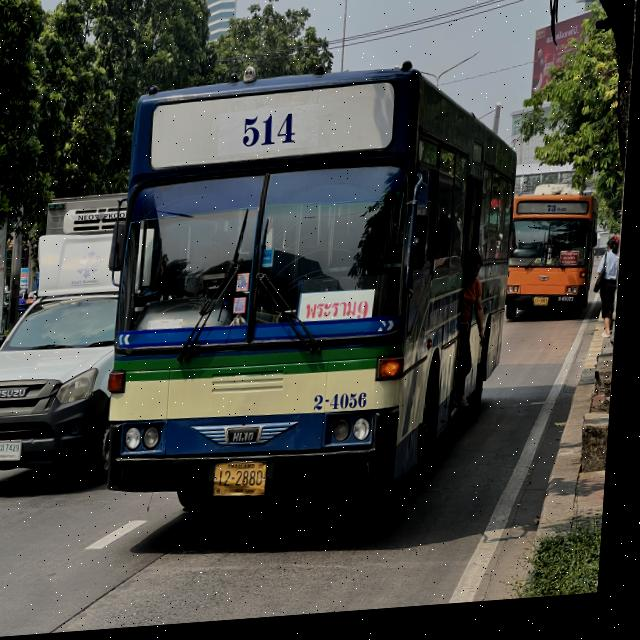BMTA-bus: (97, 48, 530, 534), (509, 186, 605, 334)
Bus Line Number: (218, 110, 323, 159), (549, 211, 571, 224)
Bus Side Number: (317, 393, 376, 419), (562, 303, 580, 312)
Destination Sign: (303, 296, 379, 330), (565, 259, 585, 275)
